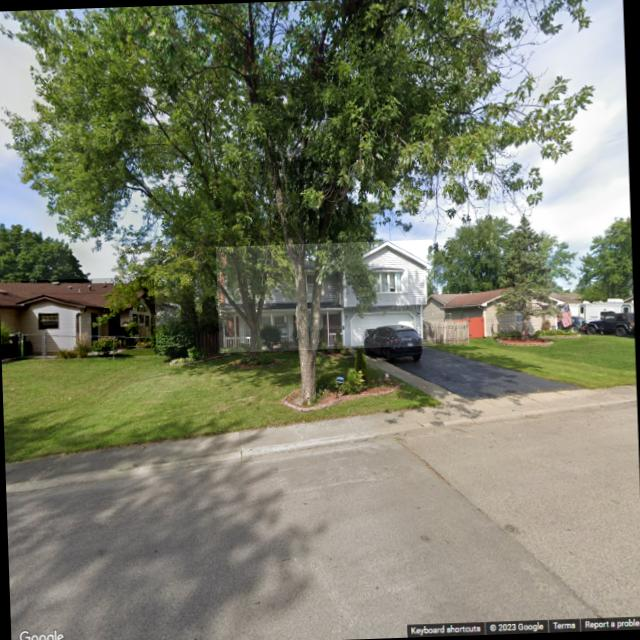House: (215, 240, 436, 352), (0, 275, 156, 360), (422, 287, 582, 339)
